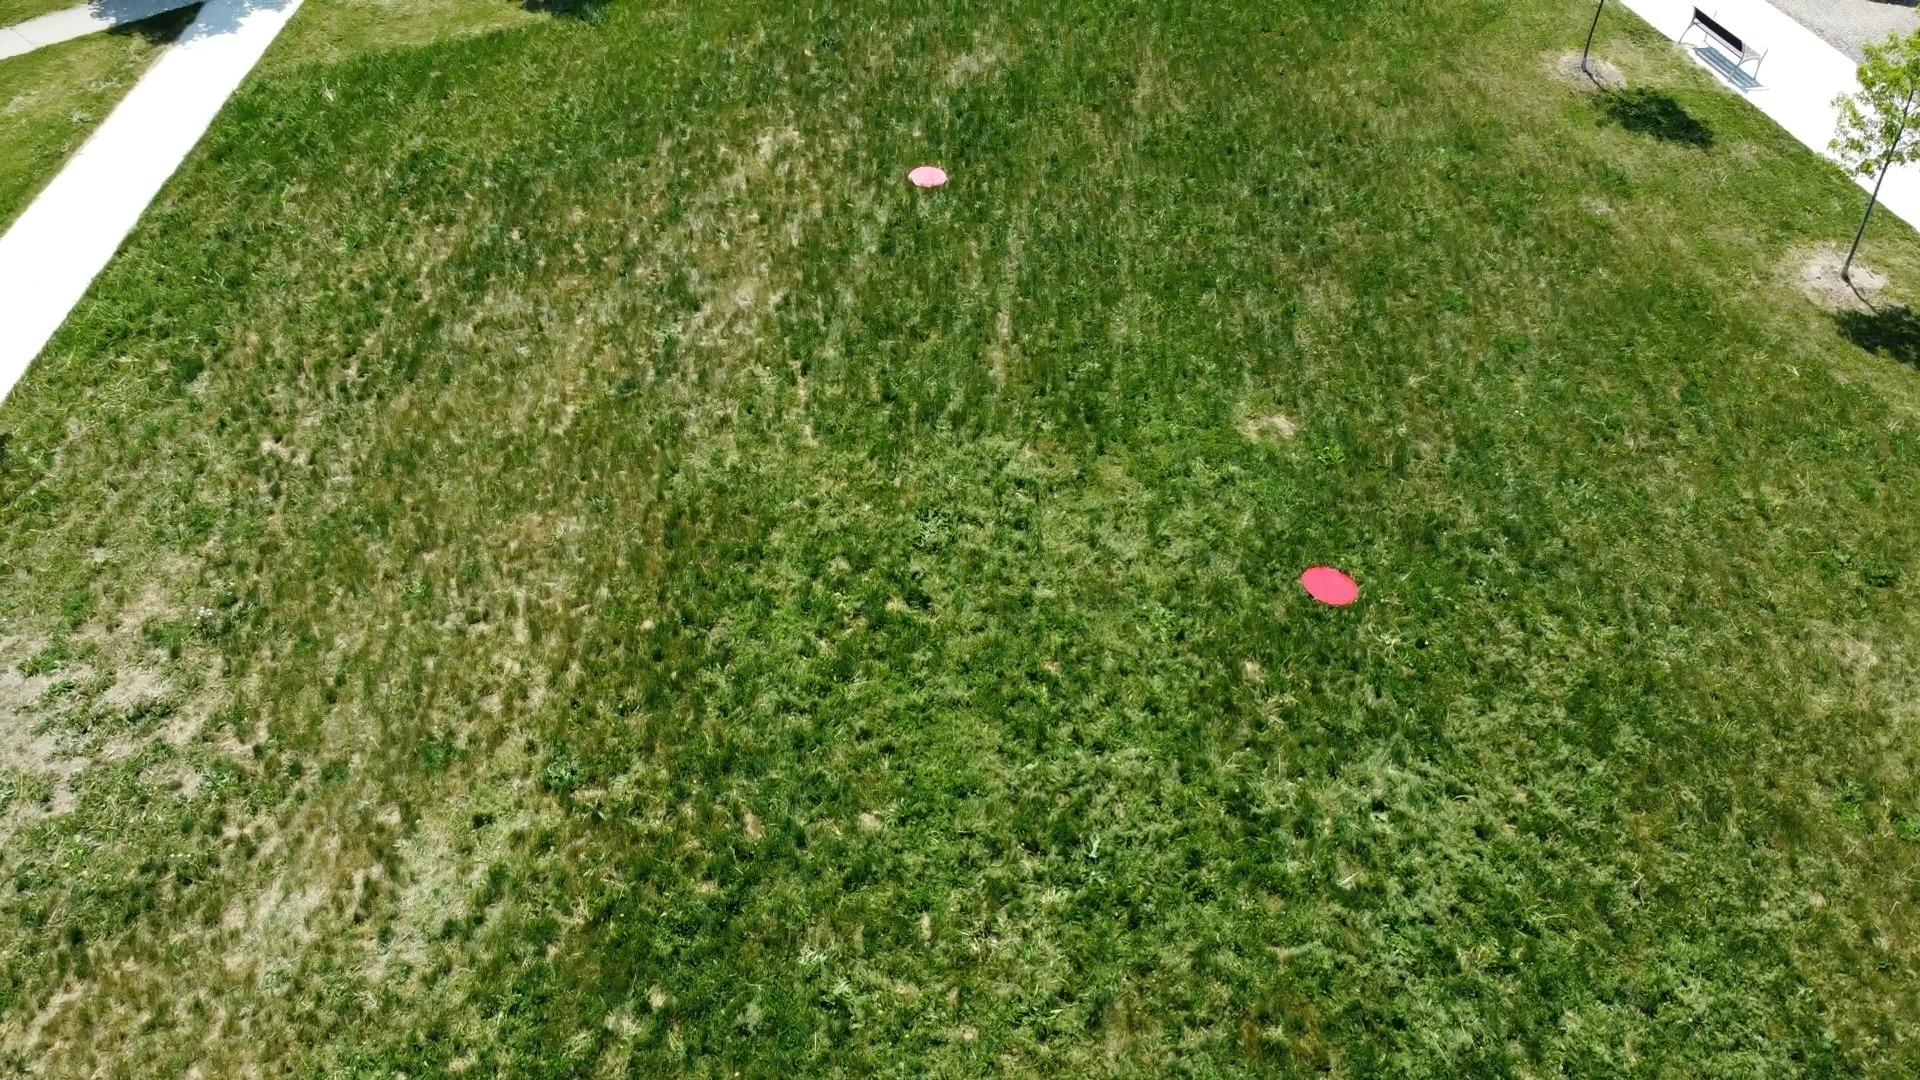Red: (1299, 560, 1361, 608), (909, 165, 949, 189)
